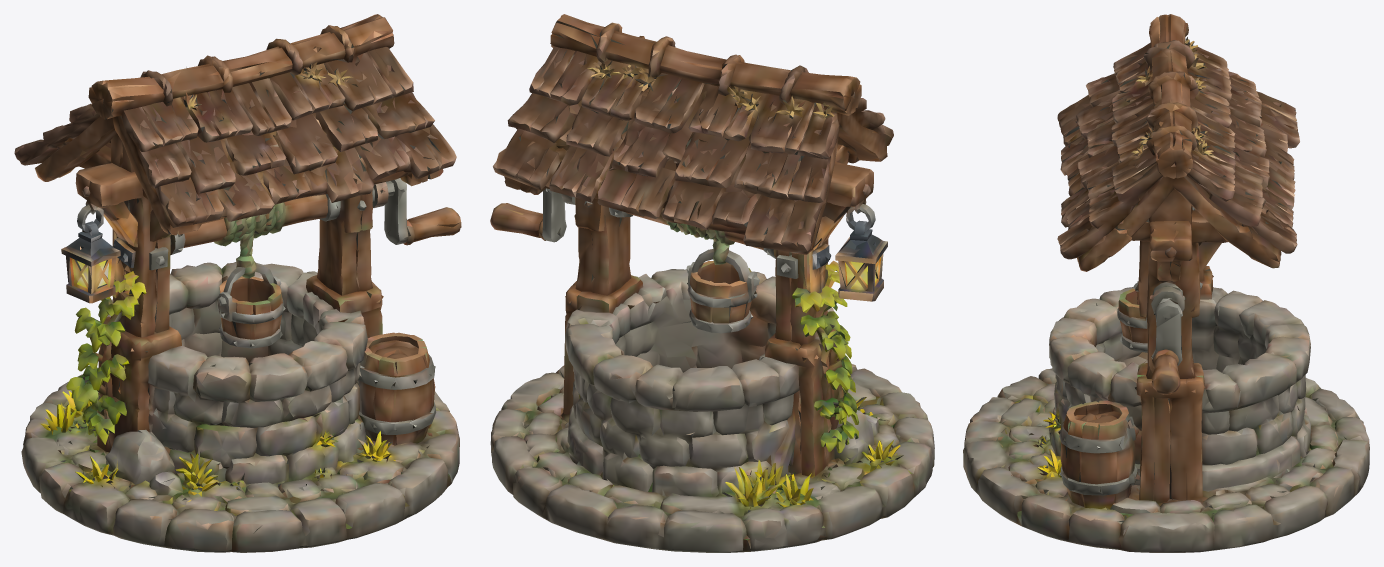
Rendered from WellVillage.glb.
3 views of the same model, side by side, from view 1: azimuth 30°, elevation 25°; view 2: azimuth 150°, elevation 25°; view 3: azimuth 270°, elevation 25° (orthographic). The views are drawn at different scales.
Visible parts, largest first — view 1: WellVillage; view 2: WellVillage; view 3: WellVillage.
Boxes of the visible parts, x1,y1,x2,y2 form: WellVillage: (14, 14, 461, 552); WellVillage: (490, 14, 934, 552); WellVillage: (963, 14, 1369, 552).
Size of the model in its own units: 3.36 by 3.29 by 3.1.
2 materials, 2 textured.
